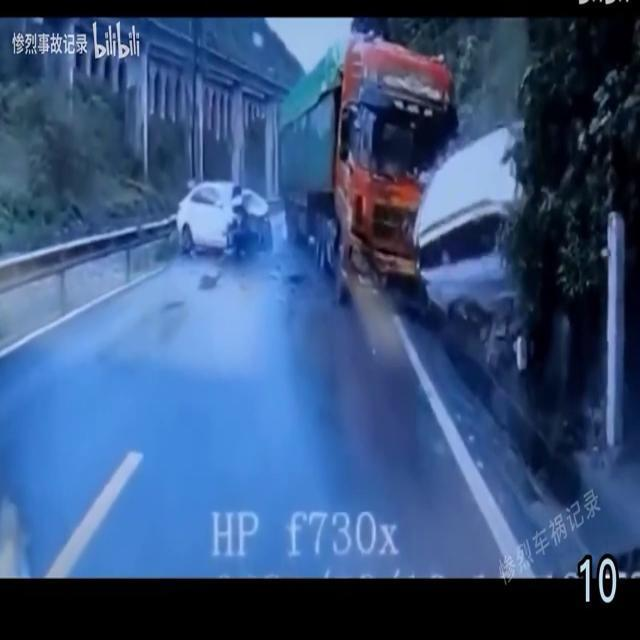accident: (176, 29, 554, 344), (276, 32, 552, 328), (177, 31, 459, 310)
